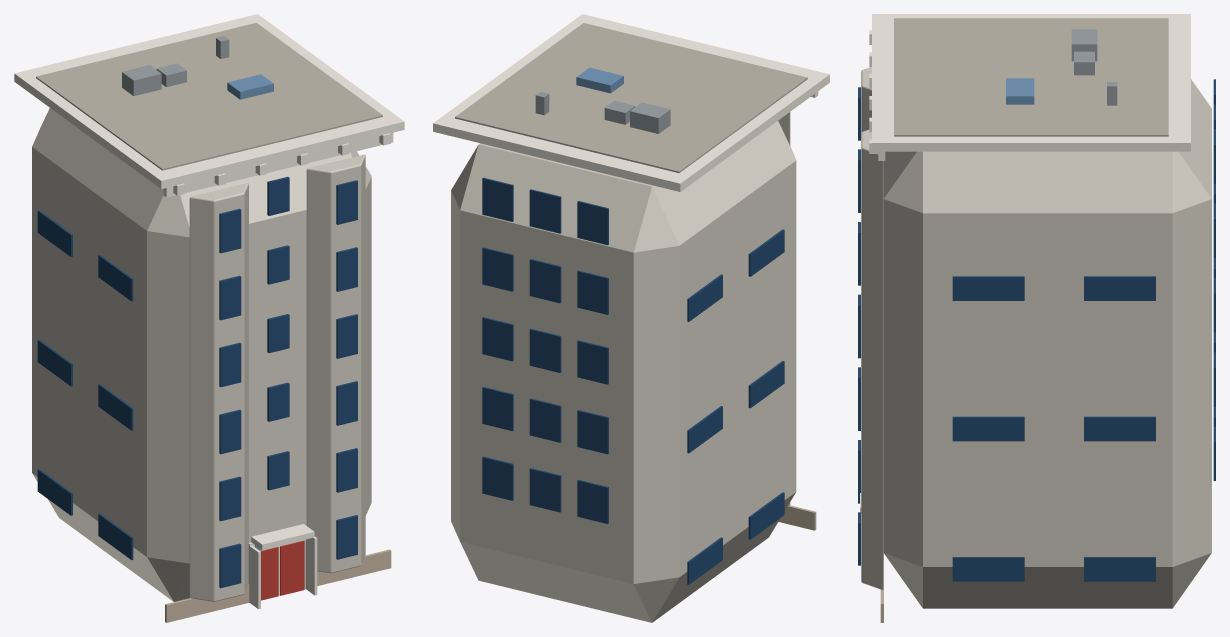
Rendered from apt_w12_f6_bays.glb.
3 renders of one model, left to right at view 1: azimuth 30°, elevation 25°; view 2: azimuth 150°, elevation 25°; view 3: azimuth 270°, elevation 25°, orthographic. The views are drawn at different scales.
Visible parts, largest first — view 1: walls, roofslab, bay, bay.001, corn, bsmt, frieze, door.001, hvac, canopy, bw, bw.001 (+25 smaller); view 2: walls, roofslab, corn, win.010, win.001, win.004, win.013, win.007, win.006, win.008, win.011, win.002 (+15 smaller); view 3: walls, roofslab, corn, bay.001, sb.005, sb.007, sb.001, sb.009, sb.003, sb.011, skylt, hvac (+2 smaller).
Part boxes in pixels (x1,y1,x2,y2): walls: [32, 108, 371, 601]; roofslab: [36, 22, 382, 170]; bay: [189, 183, 248, 601]; bay.001: [306, 154, 365, 573]; corn: [14, 14, 404, 189]; bsmt: [165, 549, 391, 622]; frieze: [163, 133, 393, 197]; door.001: [280, 540, 304, 595]; hvac: [122, 65, 161, 95]; canopy: [251, 524, 314, 549]; bw: [219, 543, 241, 588]; bw.001: [219, 476, 241, 521]; walls: [451, 121, 796, 622]; roofslab: [455, 23, 807, 172]; corn: [433, 14, 829, 191]; win.010: [529, 259, 561, 303]; win.001: [529, 468, 561, 512]; win.004: [529, 398, 561, 442]; win.013: [529, 189, 561, 233]; win.007: [529, 328, 561, 372]; win.006: [577, 340, 608, 384]; win.008: [482, 317, 513, 361]; win.011: [482, 247, 513, 291]; win.002: [482, 456, 513, 500]; walls: [883, 79, 1211, 608]; roofslab: [894, 18, 1168, 136]; corn: [872, 14, 1190, 151]; bay.001: [861, 129, 883, 589]; sb.005: [952, 416, 1024, 441]; sb.007: [1084, 416, 1155, 441]; sb.001: [952, 557, 1024, 581]; sb.009: [952, 276, 1024, 300]; sb.003: [1084, 557, 1155, 581]; sb.011: [1084, 276, 1155, 300]; skylt: [1006, 78, 1034, 104]; hvac: [1071, 29, 1097, 61].
Size of the model in its own units: 13 by 23.8 by 15.26.
